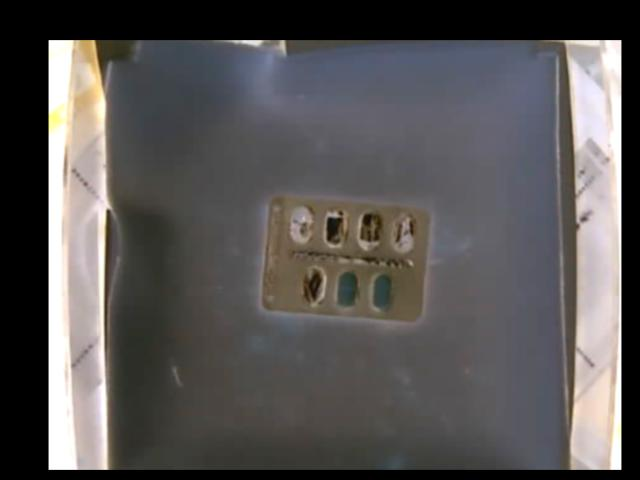Medicine: (259, 195, 430, 322)
